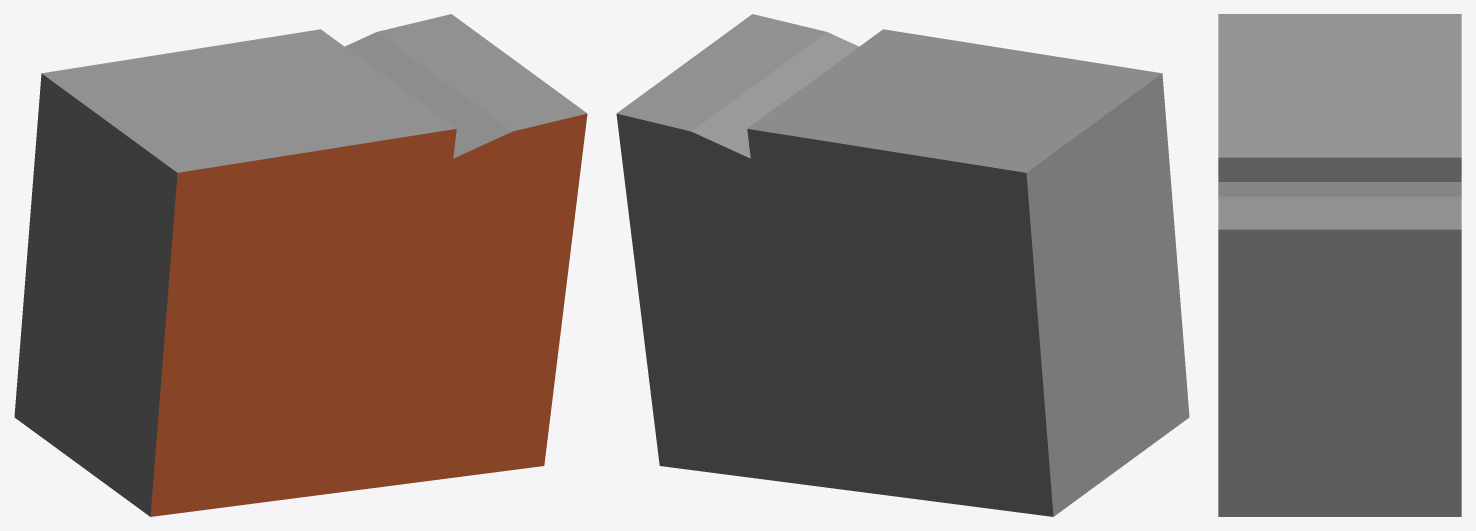
File: construction_3737_assumed_A_Casa_h6m.obj
3 views of the same model, side by side, from view 1: azimuth 30°, elevation 25°; view 2: azimuth 150°, elevation 25°; view 3: azimuth 270°, elevation 25° (orthographic). The views are drawn at different scales.
Visible parts, largest first — view 1: construction_3737_assumed_A_Casa; view 2: construction_3737_assumed_A_Casa; view 3: construction_3737_assumed_A_Casa.
Part boxes in pixels (x1,y1,x2,y2): construction_3737_assumed_A_Casa: [14, 14, 587, 516]; construction_3737_assumed_A_Casa: [616, 14, 1189, 516]; construction_3737_assumed_A_Casa: [1218, 14, 1461, 516].
Bounding box in the file's own units: 11.13 × 9.31 × 6.
